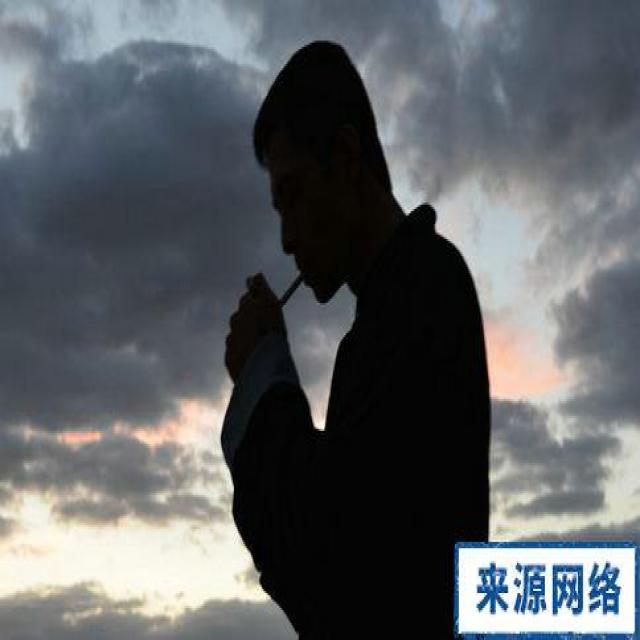Сигарета: (279, 268, 301, 312)
Тело: (221, 42, 492, 640)
